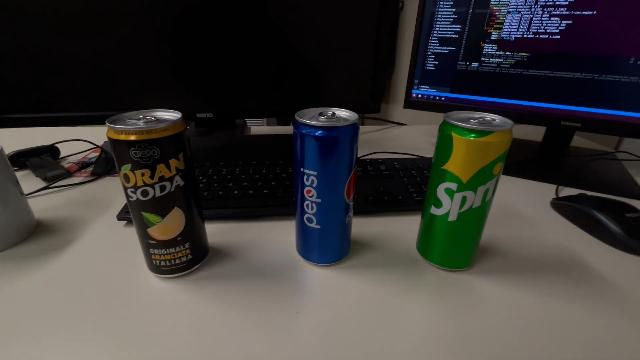OranSoda: (104, 107, 212, 280)
Pepsi: (292, 103, 360, 266)
Sprite: (414, 106, 516, 274)
